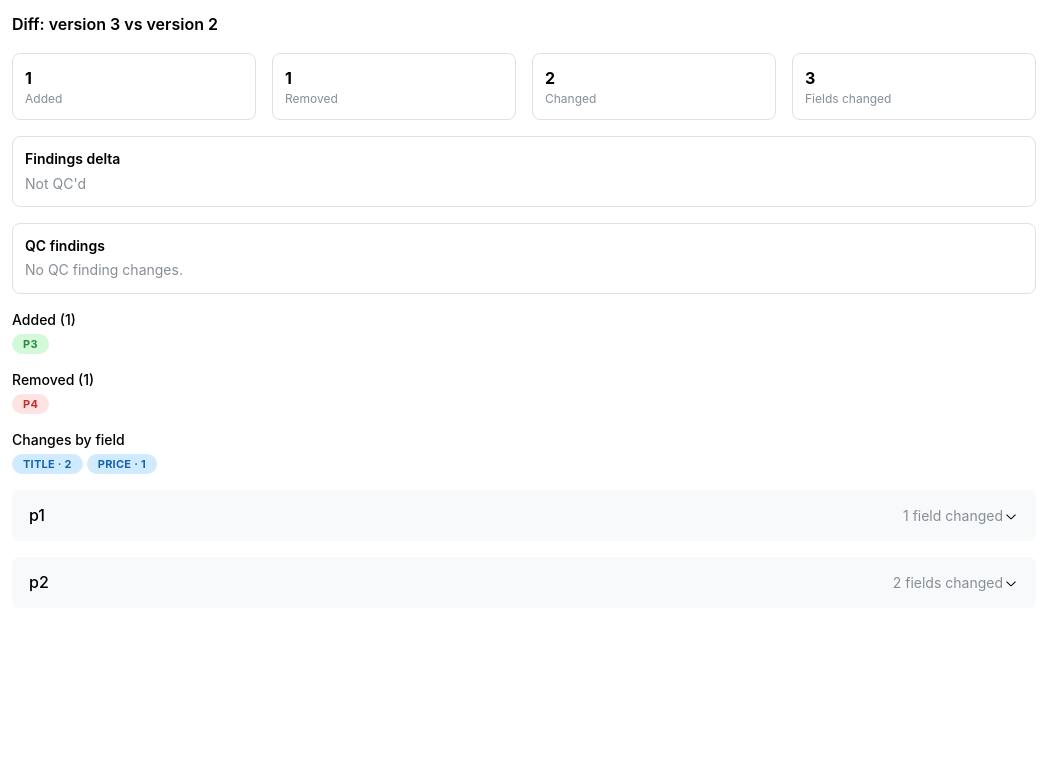
Test case: ExportVersionDiff › filters the changed-product list when a field badge is clicked
The image size is (1048, 780).
Expected: the text "p1" is shown, [29, 504, 45, 528]
Expected: the text "p2" is shown, [29, 570, 49, 595]
Click the text "price · 1". click: [122, 464]
box: [98, 456, 146, 474]
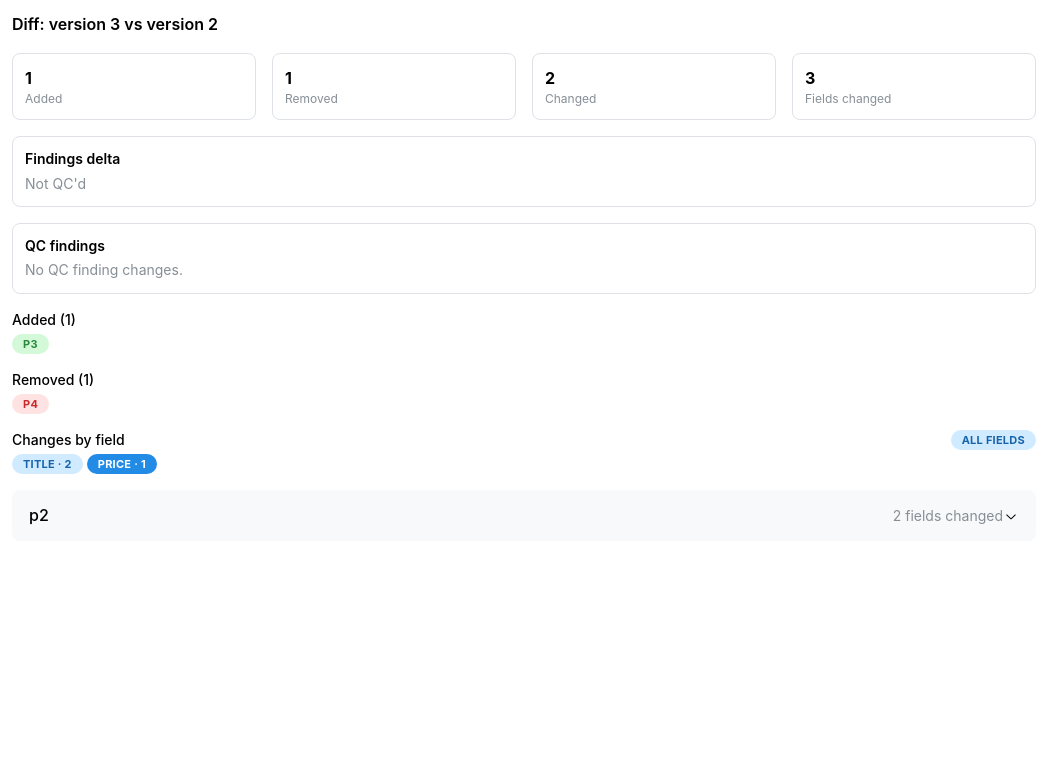
Expected: the text "p2" is shown, [29, 504, 49, 528]
Now the button "p1" is gone
